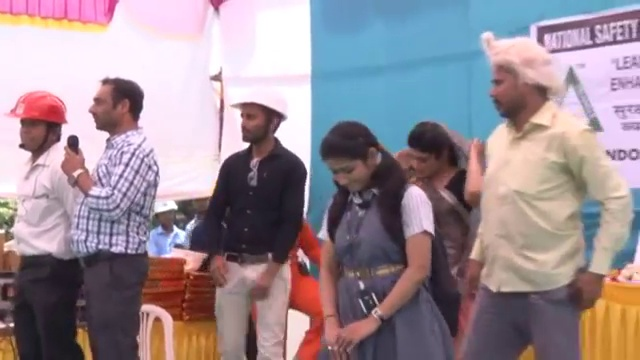helmet: (227, 78, 294, 122), (0, 89, 67, 126), (170, 247, 208, 274), (151, 200, 179, 216)
helmet_off: (485, 44, 564, 123), (317, 118, 387, 198), (401, 120, 463, 190), (81, 79, 145, 144), (178, 197, 209, 221)
helmet_on: (226, 78, 294, 150), (0, 88, 66, 157), (151, 201, 177, 229)
person: (457, 40, 632, 359), (193, 83, 310, 356), (312, 119, 433, 359), (61, 75, 164, 348), (0, 79, 83, 360), (400, 122, 486, 332), (145, 198, 191, 259)
